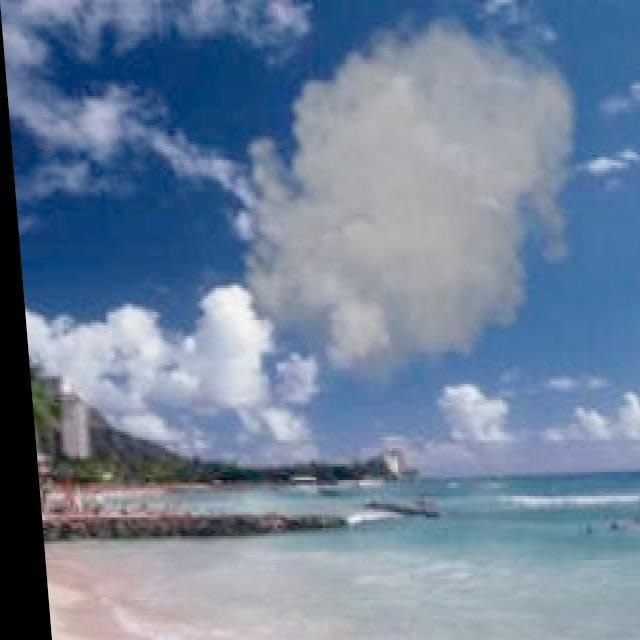Smoke: (214, 15, 592, 385)
